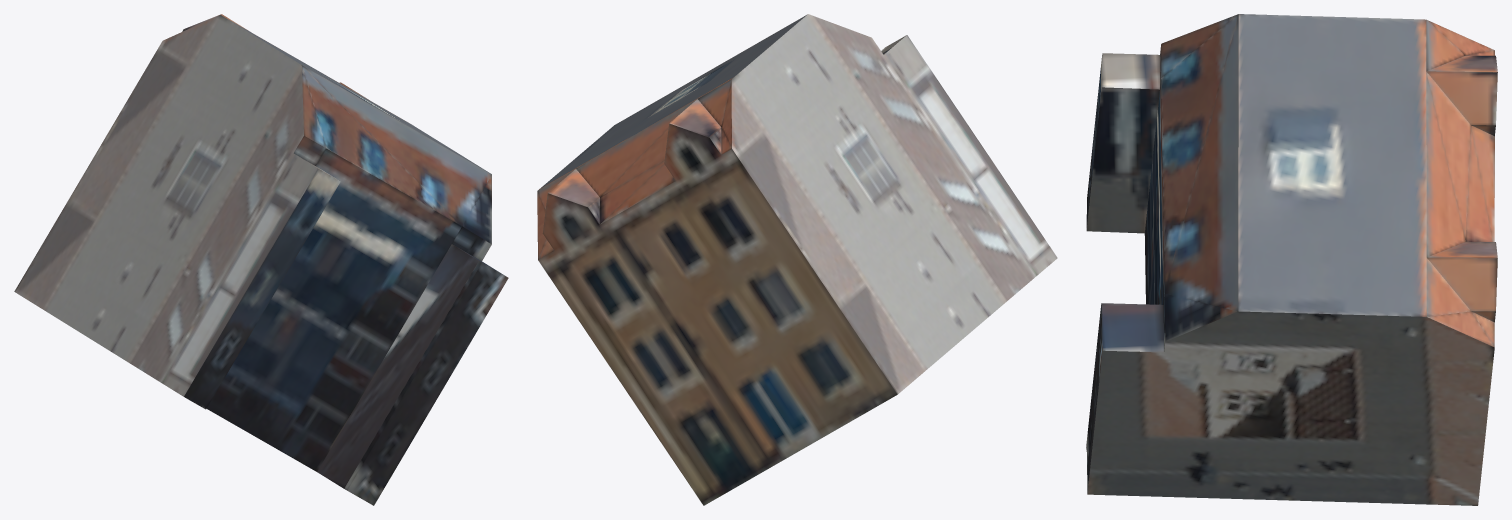
3 renders of one model, left to right at view 1: azimuth 30°, elevation 25°; view 2: azimuth 150°, elevation 25°; view 3: azimuth 270°, elevation 25°, orthographic. The views are drawn at different scales.
Parts seen in each view (by area): view 1: BAG_0599100000670815 (×4); view 2: BAG_0599100000670815 (×4); view 3: BAG_0599100000670815 (×4).
Boxes of the visible parts, left/top/right/bottom form: BAG_0599100000670815 (×4): left=14, top=14, right=508, bottom=505; BAG_0599100000670815 (×4): left=537, top=14, right=1057, bottom=505; BAG_0599100000670815 (×4): left=1086, top=14, right=1497, bottom=505.
Size of the model in its own units: 16.55 by 17.15 by 13.04.
1 material, 1 textured.
